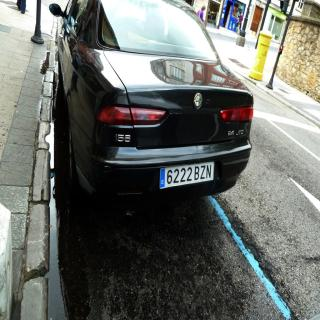license: (160, 163, 209, 188)
